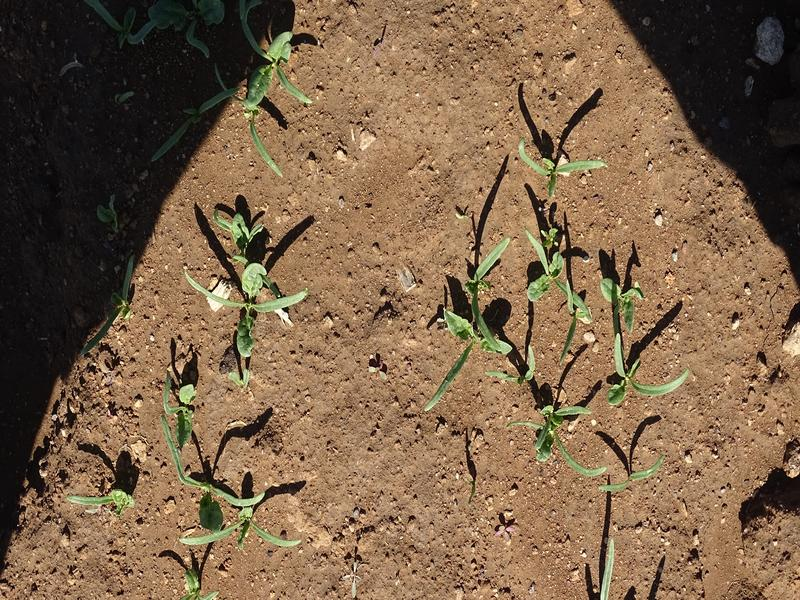Espinaca: (451, 151, 690, 497), (80, 3, 317, 175), (147, 377, 305, 556), (192, 209, 312, 361), (71, 488, 139, 520)
